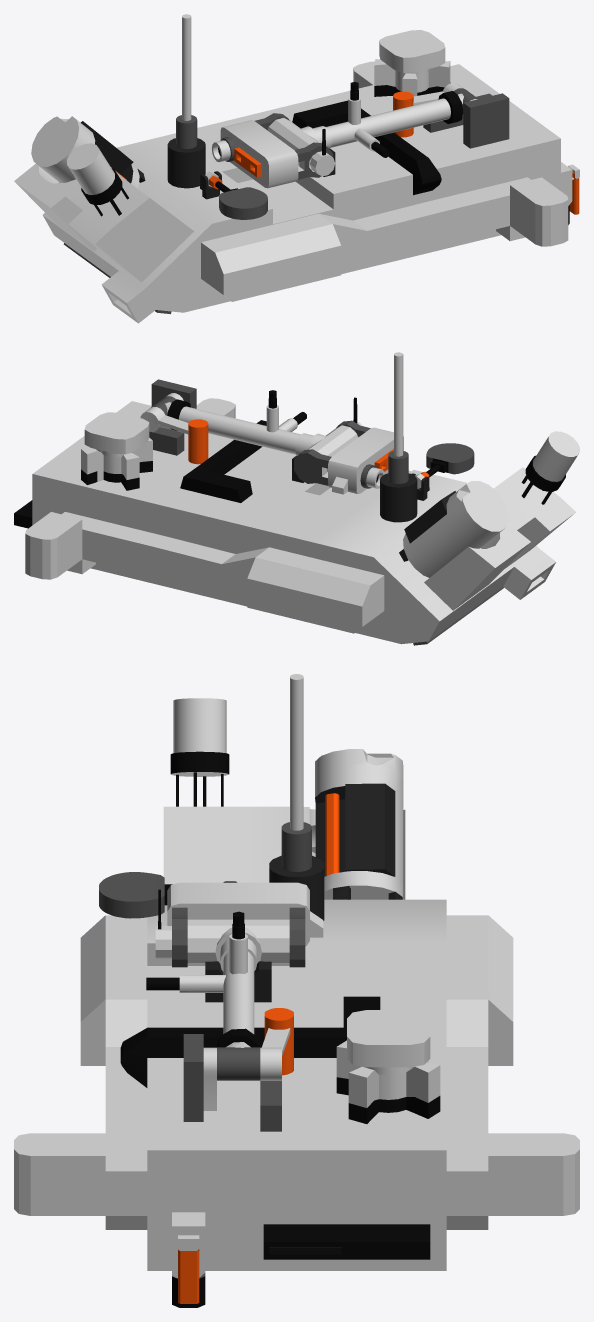
The model's file is Cuerpo.obj.
3 renders of one model, top to bottom at view 1: azimuth 30°, elevation 25°; view 2: azimuth 150°, elevation 25°; view 3: azimuth 270°, elevation 25°, orthographic. The views are drawn at different scales.
Parts seen in each view (by area): view 1: cuerpo; view 2: cuerpo; view 3: cuerpo.
Boxes of the visible parts, x1,y1,x2,y2 form: cuerpo: (14, 14, 579, 323); cuerpo: (14, 352, 579, 645); cuerpo: (14, 674, 579, 1307).
Bounding box in the file's own units: 10.27 × 5.1 × 6.8.
